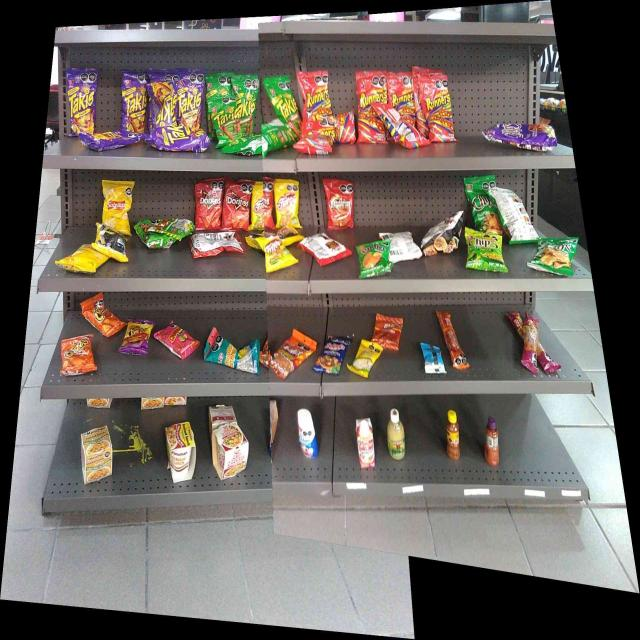bitzEnchilado90: (378, 315, 398, 349)
bitzEnchilado95: (446, 310, 464, 370)
bitzHabanero: (522, 314, 539, 372), (542, 349, 562, 375)
bokadosCacahuates: (319, 336, 343, 374)
botaneraChilito: (446, 410, 459, 460)
cheetosFlaminHot: (124, 320, 147, 354)
cheetosOriginal: (89, 298, 118, 333), (64, 339, 92, 374)
chipsJalapeno: (495, 122, 555, 152), (464, 178, 498, 227), (538, 236, 572, 276)
chipsPapatinas: (467, 230, 500, 272)
churrumais: (160, 324, 196, 358)
delPrimoSalsa: (388, 410, 406, 457)
doritosNacho: (195, 181, 221, 230), (224, 183, 248, 229)
fritosLimon: (275, 182, 299, 228), (261, 237, 292, 270), (251, 184, 263, 230)
leoMix: (272, 335, 307, 373)
maruchanPollo: (80, 430, 110, 479)
maruchanRes: (166, 426, 193, 482)
nestleCarnation: (356, 418, 375, 469)
nestleLechera: (296, 409, 318, 457)
nissinRes: (212, 429, 246, 477)
popKarameladas: (423, 232, 460, 256)
productoAtras: (502, 188, 534, 243), (146, 218, 189, 244), (193, 234, 241, 255), (308, 238, 347, 262), (98, 227, 125, 259), (261, 125, 290, 152), (395, 230, 418, 260), (421, 344, 443, 375), (391, 123, 418, 148)
rancheritos: (327, 178, 354, 230)
rufflesQueso: (356, 244, 389, 276)
runners: (356, 76, 385, 145), (421, 75, 449, 142), (302, 71, 330, 115), (388, 76, 415, 121), (334, 112, 353, 144)
sabritasOriginal: (101, 182, 130, 224)
semillasCalabaza: (351, 344, 376, 376)
semillasGirasol: (207, 333, 260, 372)
tajinDulce: (486, 416, 499, 464)
takisFuego: (66, 68, 95, 134), (122, 75, 148, 132), (151, 131, 207, 154), (178, 79, 202, 129), (151, 79, 176, 124)
takisOriginal: (268, 80, 299, 121), (211, 100, 238, 142), (240, 75, 256, 135)
